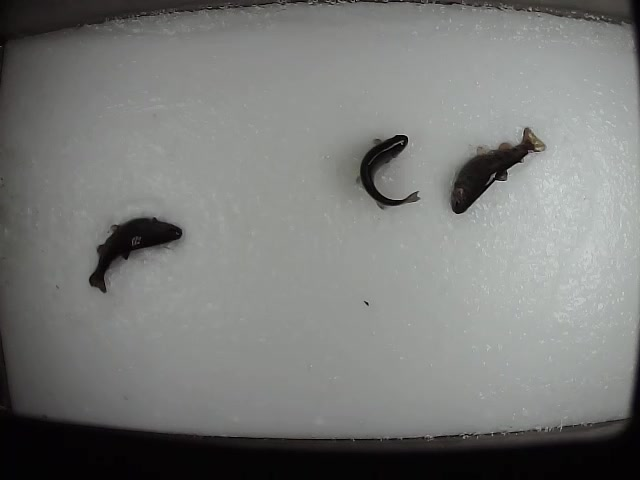fish: (449, 124, 549, 214), (87, 214, 183, 295), (354, 130, 421, 211)
